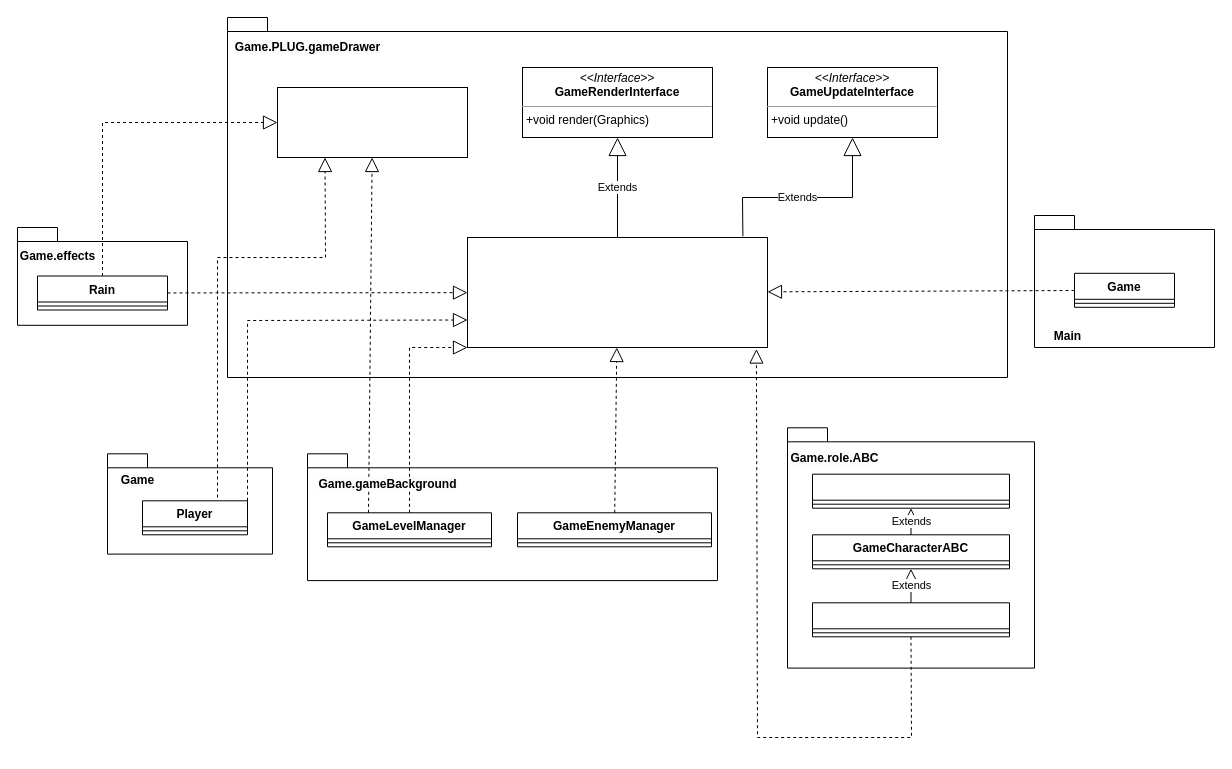
This 1232x769 diagram has some shape labels left out. The shapes that lost their labels are listed below. From the top down, each one's centre as x and y in pixels, then its label:
At point (372, 122): "<<Interface>> GameRenderOffsetPass +void passOffset(float)".
At point (617, 292): "«interface» GameAnimatedDrawer".
At point (911, 490): "BasicGameCharacterABC".
At point (911, 619): "GameEnemyABC".
